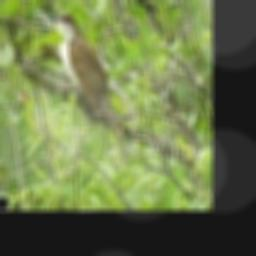Cuckoo: (51, 14, 127, 164)
